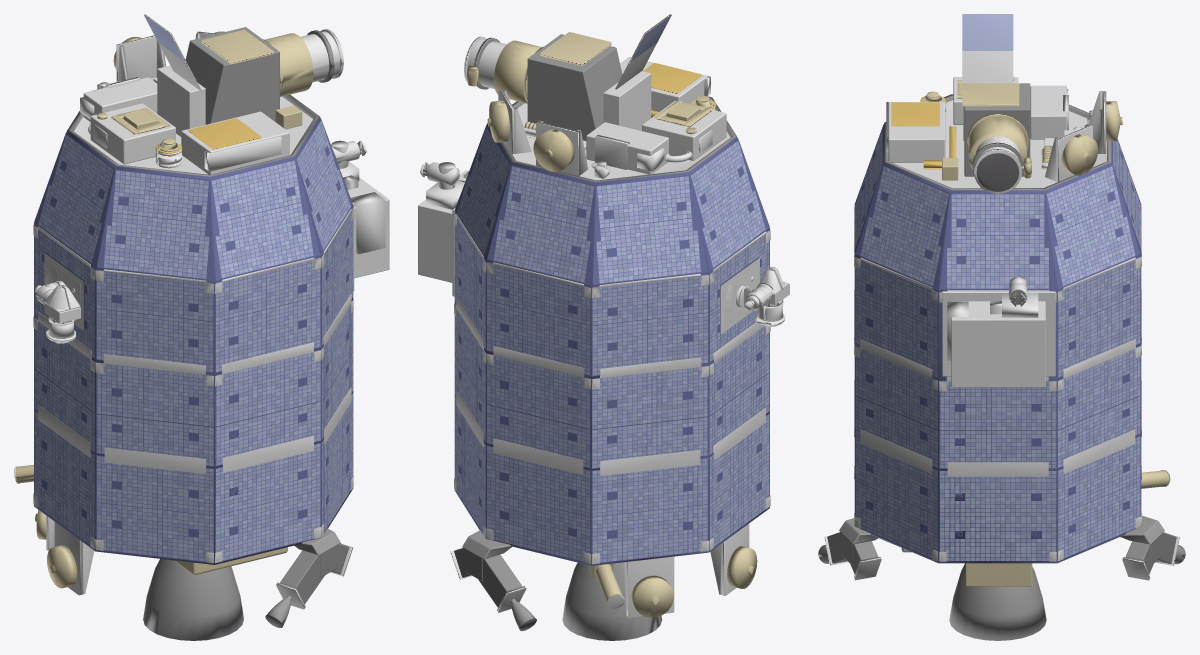
File: lunar-atmosphere-and-dust-environment-explorer-ladee.glb
3 renders of one model, left to right at view 1: azimuth 30°, elevation 25°; view 2: azimuth 150°, elevation 25°; view 3: azimuth 270°, elevation 25°, orthographic. The views are drawn at different scales.
Visible parts, largest first — view 1: Fake; view 2: Fake; view 3: Fake.
Part boxes in pixels (bbox=[...]): Fake: bbox=[14, 14, 389, 640]; Fake: bbox=[418, 14, 789, 640]; Fake: bbox=[818, 14, 1185, 640].
Bounding box in the file's own units: 37.18 × 63.9 × 36.23.
